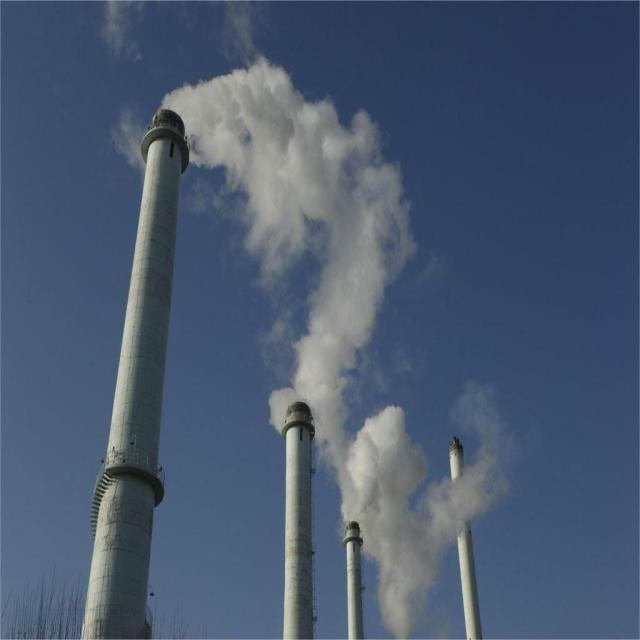Smoke: (164, 64, 412, 394), (274, 396, 504, 640)
